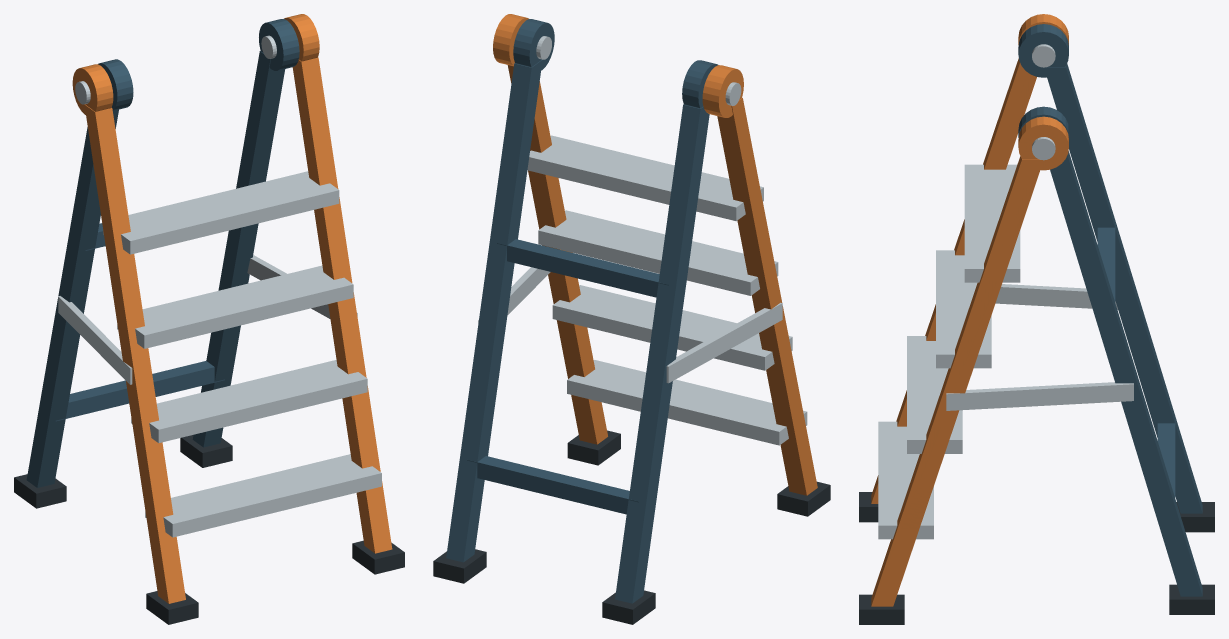
3 views of the same model, side by side, from view 1: azimuth 30°, elevation 25°; view 2: azimuth 150°, elevation 25°; view 3: azimuth 270°, elevation 25° (orthographic).
Parts seen in each view (by area): view 1: Front_Rail_Left, Front_Rail_Right, Rear_Rail_Left, Front_Tread_04, Front_Tread_01, Front_Tread_03, Front_Tread_02, Rear_Rail_Right, Rear_Crossbar_01, Fixed_Limiter_Left, Top_Ear_Rear_Right, Top_Ear_Front_Left (+7 smaller); view 2: Rear_Rail_Left, Rear_Rail_Right, Front_Rail_Left, Front_Tread_03, Front_Tread_01, Front_Tread_04, Front_Tread_02, Front_Rail_Right, Rear_Crossbar_01, Rear_Crossbar_02, Fixed_Limiter_Left, Top_Ear_Front_Left (+8 smaller); view 3: Front_Rail_Right, Rear_Rail_Right, Rear_Rail_Left, Front_Tread_04, Front_Tread_01, Front_Tread_03, Fixed_Limiter_Right, Front_Tread_02, Front_Rail_Left, Fixed_Limiter_Left, Top_Ear_Front_Right, Top_Ear_Rear_Left (+8 smaller).
Boxes of the visible parts, x1=… form: Front_Rail_Left: x1=84, y1=104, x2=185, y2=603; Front_Rail_Right: x1=292, y1=57, x2=392, y2=553; Rear_Rail_Left: x1=26, y1=109, x2=118, y2=487; Front_Tread_04: x1=103, y1=171, x2=339, y2=254; Front_Tread_01: x1=145, y1=454, x2=381, y2=537; Front_Tread_03: x1=117, y1=265, x2=353, y2=348; Front_Tread_02: x1=131, y1=360, x2=367, y2=443; Rear_Rail_Right: x1=192, y1=51, x2=285, y2=447; Rear_Crossbar_01: x1=56, y1=361, x2=224, y2=421; Fixed_Limiter_Left: x1=58, y1=296, x2=132, y2=384; Top_Ear_Rear_Right: x1=259, y1=19, x2=299, y2=70; Top_Ear_Front_Left: x1=72, y1=64, x2=113, y2=114; Rear_Rail_Left: x1=615, y1=104, x2=709, y2=603; Rear_Rail_Right: x1=446, y1=59, x2=542, y2=562; Front_Rail_Left: x1=717, y1=98, x2=817, y2=495; Front_Tread_03: x1=538, y1=210, x2=778, y2=295; Front_Tread_01: x1=567, y1=360, x2=807, y2=445; Front_Tread_04: x1=527, y1=135, x2=763, y2=221; Front_Tread_02: x1=552, y1=285, x2=792, y2=370; Front_Rail_Right: x1=507, y1=65, x2=607, y2=444; Rear_Crossbar_01: x1=467, y1=456, x2=638, y2=514; Rear_Crossbar_02: x1=497, y1=239, x2=668, y2=297; Fixed_Limiter_Left: x1=666, y1=302, x2=782, y2=383; Top_Ear_Front_Left: x1=702, y1=65, x2=743, y2=117; Front_Rail_Right: x1=871, y1=156, x2=1043, y2=606; Rear_Rail_Right: x1=1050, y1=151, x2=1202, y2=596; Rear_Rail_Left: x1=1044, y1=63, x2=1202, y2=513; Front_Tread_04: x1=964, y1=164, x2=1020, y2=282; Front_Tread_01: x1=878, y1=421, x2=933, y2=539; Front_Tread_03: x1=936, y1=250, x2=991, y2=368; Fixed_Limiter_Right: x1=946, y1=382, x2=1133, y2=410; Front_Tread_02: x1=907, y1=336, x2=962, y2=453; Front_Rail_Left: x1=871, y1=58, x2=1036, y2=503; Fixed_Limiter_Left: x1=995, y1=284, x2=1117, y2=309; Top_Ear_Front_Right: x1=1018, y1=116, x2=1068, y2=170; Top_Ear_Rear_Left: x1=1018, y1=24, x2=1068, y2=77.
Bounding box in the file's own units: 0.825 × 1.62 × 1.05.
